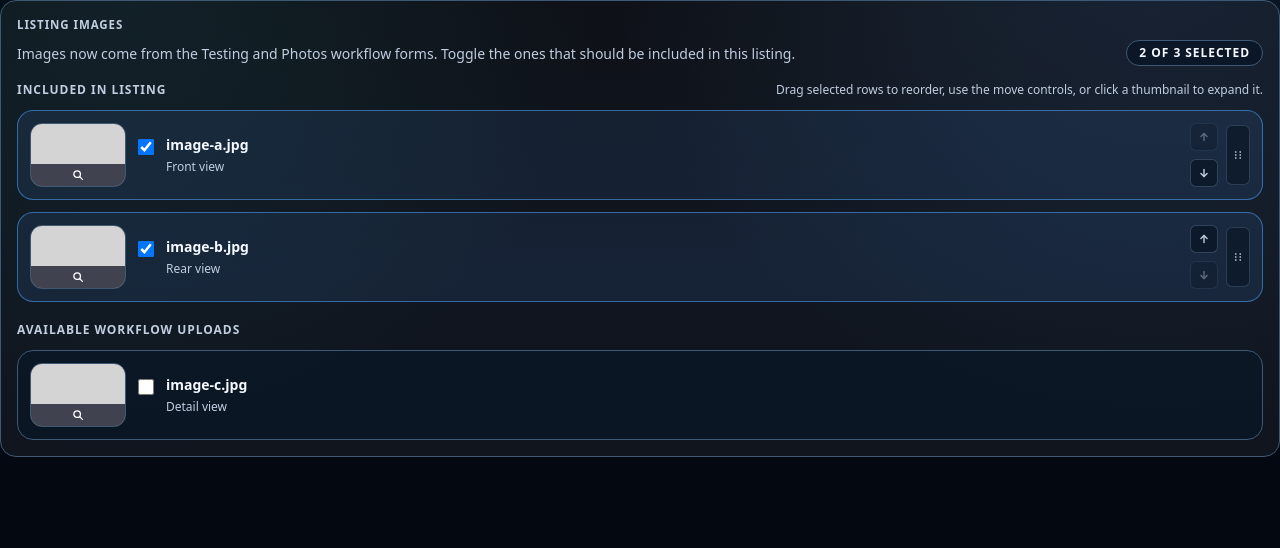
Test: WorkflowListingImageSelector › adds available workflow uploads to the selected section
Expected: the number of elements with test id "available-listing-image-card" is 1, [17, 350, 1263, 440]
Expected: the element with test id "available-listing-image-card" shows "image-c.jpg", [166, 375, 247, 394]
Click the checkbox next to "image-c.jpg".
click(146, 387)  # box [138, 379, 154, 395]
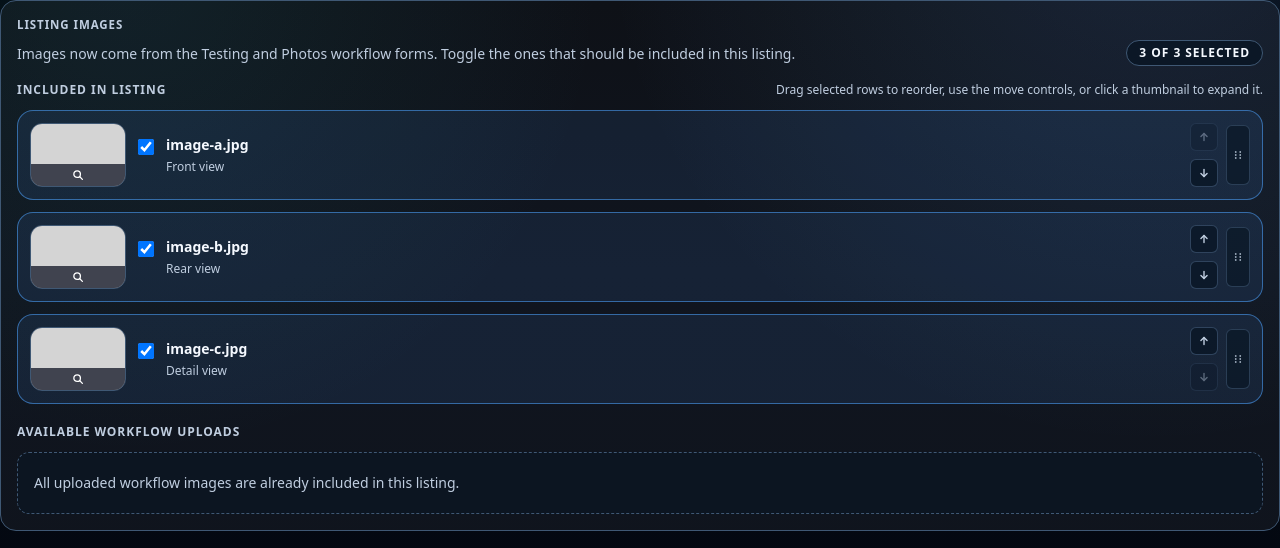
Expected: the element with test id "selected-listing-image-card" shows "image-c.jpg", [166, 339, 247, 358]
Expected: the number of elements with test id "selected-listing-image-card" is 3, [17, 110, 1263, 200]; [17, 212, 1263, 302]; [17, 314, 1263, 404]
